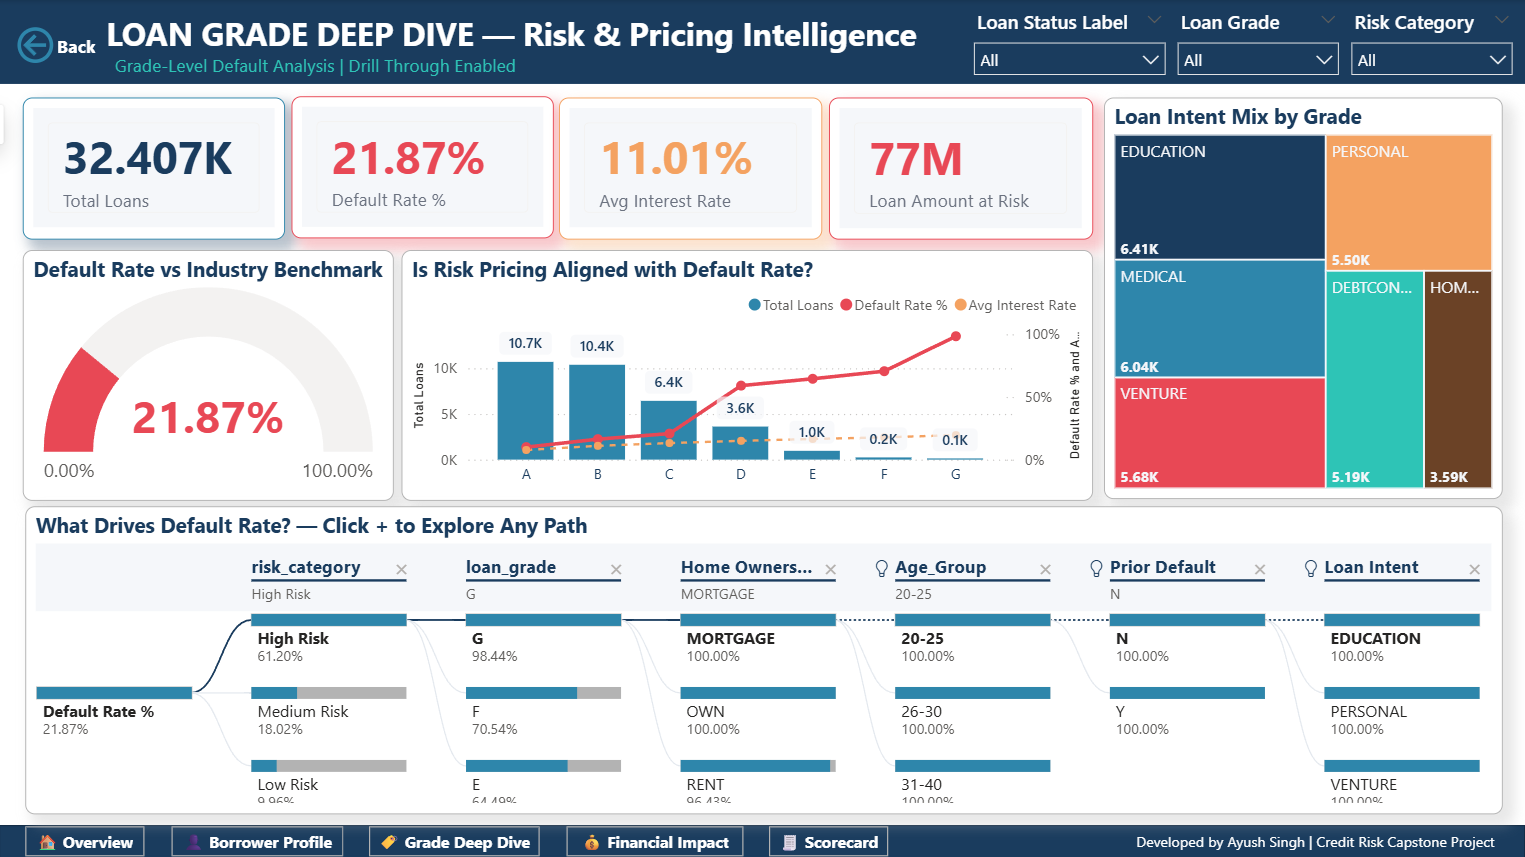

The page's visual inventory and layout, read from the dashboard file:
{"tool":"powerbi","page":{"name":"Grade Deep Dive","canvas":[1280,720],"ordinal":2},"visuals":[{"type":"group","id":"g1","title":"Group 1","box":[0,690.5,1280,29.5],"z":0},{"type":"shape","box":[0,691.6,1280,28.4],"z":0,"group":"g1"},{"type":"shape","box":[0,0,1280,70.5],"z":1000},{"type":"actionButton","box":[144.2,692.6,144.2,25.3],"z":1000,"group":"g1"},{"type":"textbox","box":[85.2,5.3,692.6,67.4],"z":2000},{"type":"actionButton","box":[22.1,692.6,100,25.3],"z":2000,"group":"g1"},{"type":"textbox","box":[92.2,39.6,355.2,30.2],"z":3000},{"type":"actionButton","box":[310.5,692.6,143.2,25.3],"z":3000,"group":"g1"},{"type":"actionButton","box":[10.5,17.9,74.7,40],"z":4000},{"type":"actionButton","box":[475.7,692.6,148.4,25.3],"z":4000,"group":"g1"},{"type":"slicer","fields":{"Values":["credit_risk_cleaned.risk_category"]},"box":[1124.2,2.5,155.8,65.3],"z":5000},{"type":"actionButton","box":[646.3,692.6,100,25.3],"z":5000,"group":"g1"},{"type":"slicer","fields":{"Values":["credit_risk_cleaned.loan_grade"]},"box":[978.4,1.9,155.8,66.3],"z":6000},{"type":"textbox","box":[948.4,690.5,312.6,28.4],"z":6000,"group":"g1"},{"type":"slicer","fields":{"Values":["credit_risk_cleaned.loan_status_label"]},"box":[807.4,1.9,181.1,66.3],"z":7000},{"type":"cardVisual","fields":{"Data":["CountNonNull(credit_risk_cleaned.person_age)"]},"box":[20,82.1,220,118.9],"z":8000},{"type":"cardVisual","fields":{"Data":["_Measures.Default Rate %"]},"box":[245,80.7,220.2,119.5],"z":9000},{"type":"cardVisual","fields":{"Data":["_Measures.Avg Interest Rate"]},"box":[470.1,82.1,221.1,118.9],"z":10000},{"type":"cardVisual","fields":{"Data":["_Measures.Loan Amount at Risk"]},"box":[696.1,81.8,221.2,119.5],"z":11000},{"type":"gauge","title":"Default Rate vs Industry Benchmark","fields":{"Y":["_Measures.Default Rate %"],"TargetValue":["_Measures.Target Default Rate"]},"box":[20,209.5,311.6,210],"z":12000},{"type":"lineClusteredColumnComboChart","title":"Is Risk Pricing Aligned with Default Rate?","fields":{"Category":["credit_risk_cleaned.loan_grade"],"Y":["CountNonNull(credit_risk_cleaned.loan_amnt)"],"Y2":["_Measures.Default Rate %","_Measures.Avg Interest Rate"]},"box":[337.9,209.5,580,210],"z":13000},{"type":"treemap","title":"Loan Intent Mix by Grade","fields":{"Group":["credit_risk_cleaned.loan_intent"],"Values":["CountNonNull(credit_risk_cleaned.loan_amnt)"]},"box":[926.3,82.1,334.7,337],"z":14000},{"type":"decompositionTreeVisual","title":"What Drives Default Rate? — Click + to Explore Any Path","fields":{"Analyze":["_Measures.Default Rate %"],"ExplainBy":["credit_risk_cleaned.risk_category","credit_risk_cleaned.loan_grade","credit_risk_cleaned.person_home_ownership","credit_risk_cleaned.Age_Group","credit_risk_cleaned.cb_person_default_on_file","credit_risk_cleaned.loan_intent"]},"box":[22.1,424.2,1238.9,258],"z":15000}]}

Visuals, with their boxes in screenshot pixels (x1, y1, x2, y2), scaled from the page's 1280x720 canvas onto the 1525x857 screenshot:
"Group 1" group: l=0, t=822, r=1524, b=856
shape: l=0, t=823, r=1524, b=856
shape: l=0, t=0, r=1524, b=84
actionButton: l=172, t=824, r=344, b=855
textbox: l=102, t=6, r=927, b=87
actionButton: l=26, t=824, r=145, b=855
textbox: l=110, t=47, r=533, b=83
actionButton: l=370, t=824, r=541, b=855
actionButton: l=13, t=21, r=102, b=69
actionButton: l=567, t=824, r=744, b=855
slicer - credit_risk_cleaned.risk_category: l=1339, t=3, r=1524, b=81
actionButton: l=770, t=824, r=889, b=855
slicer - credit_risk_cleaned.loan_grade: l=1166, t=2, r=1351, b=81
textbox: l=1130, t=822, r=1502, b=856
slicer - credit_risk_cleaned.loan_status_label: l=962, t=2, r=1178, b=81
cardVisual - CountNonNull(credit_risk_cleaned.person_age): l=24, t=98, r=286, b=239
cardVisual - _Measures.Default Rate %: l=292, t=96, r=554, b=238
cardVisual - _Measures.Avg Interest Rate: l=560, t=98, r=824, b=239
cardVisual - _Measures.Loan Amount at Risk: l=829, t=97, r=1093, b=240
"Default Rate vs Industry Benchmark" gauge: l=24, t=249, r=395, b=499
"Is Risk Pricing Aligned with Default Rate?" lineClusteredColumnComboChart: l=403, t=249, r=1094, b=499
"Loan Intent Mix by Grade" treemap: l=1104, t=98, r=1502, b=499
"What Drives Default Rate? — Click + to Explore Any Path" decompositionTreeVisual: l=26, t=505, r=1502, b=812
